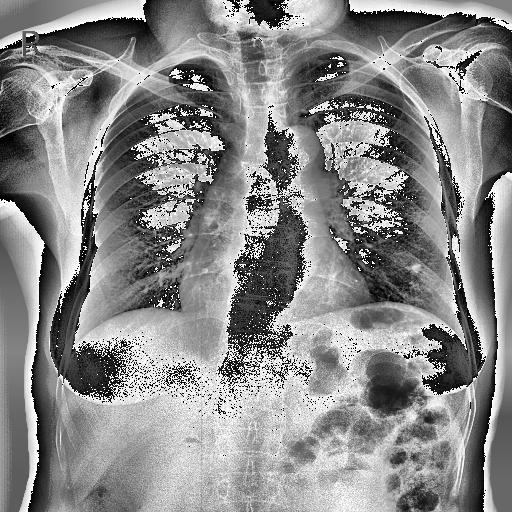0- Aortic enlargement: (268, 122, 328, 182), (268, 128, 324, 168), (266, 125, 318, 162)
13- Pulmonary fibrosis: (410, 262, 424, 272)
3- Cardiomegaly: (172, 267, 368, 336)
